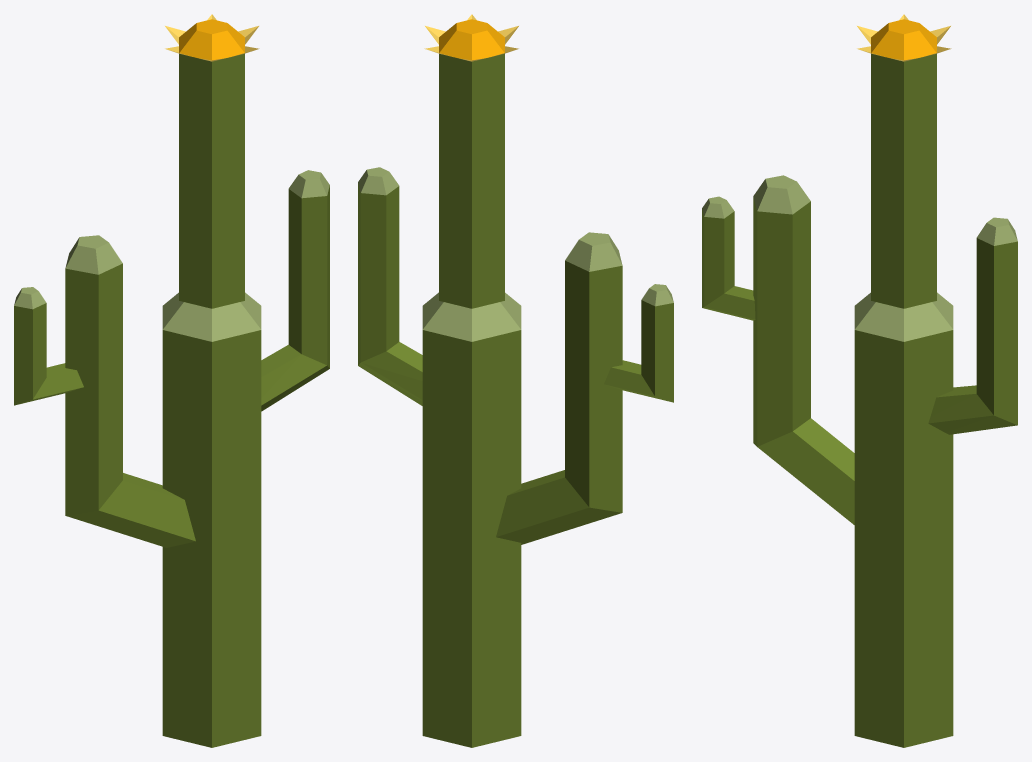
File: TB_D_Env_CactusD_A.FBX
The picture shows the model from 3 angles, left to right: view 1: azimuth 30°, elevation 25°; view 2: azimuth 150°, elevation 25°; view 3: azimuth 330°, elevation 25°; orthographic projection.
Visible parts, largest first — view 1: TB_D_Env_CactusD_A; view 2: TB_D_Env_CactusD_A; view 3: TB_D_Env_CactusD_A.
Part boxes in pixels (x1=…): TB_D_Env_CactusD_A: x1=14, y1=14, x2=329, y2=747; TB_D_Env_CactusD_A: x1=358, y1=14, x2=673, y2=747; TB_D_Env_CactusD_A: x1=702, y1=14, x2=1017, y2=747.
Size of the model in its own units: 1.7 by 3.59 by 0.4616.
